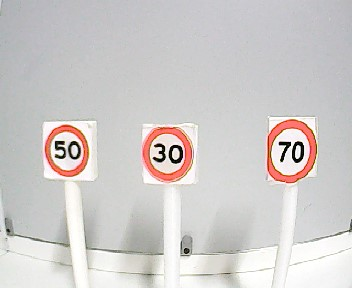30-bord: (142, 127, 195, 183)
50-bord: (44, 124, 90, 177)
70-bord: (266, 120, 317, 182)
